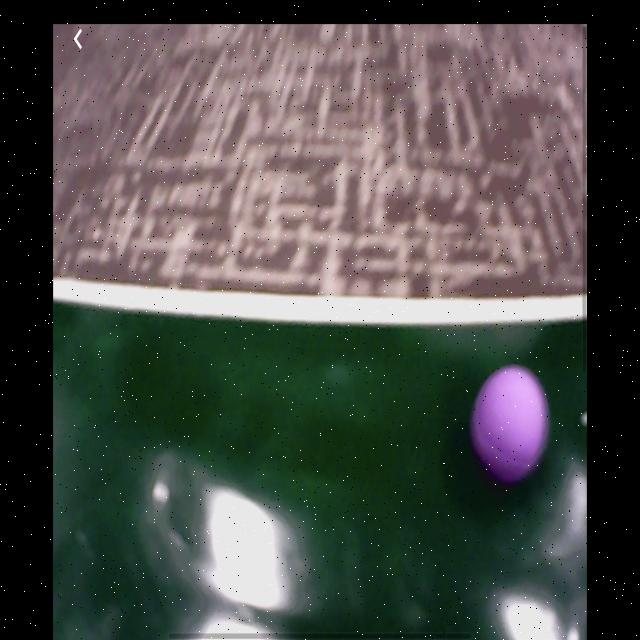ball: (470, 364, 551, 485)
